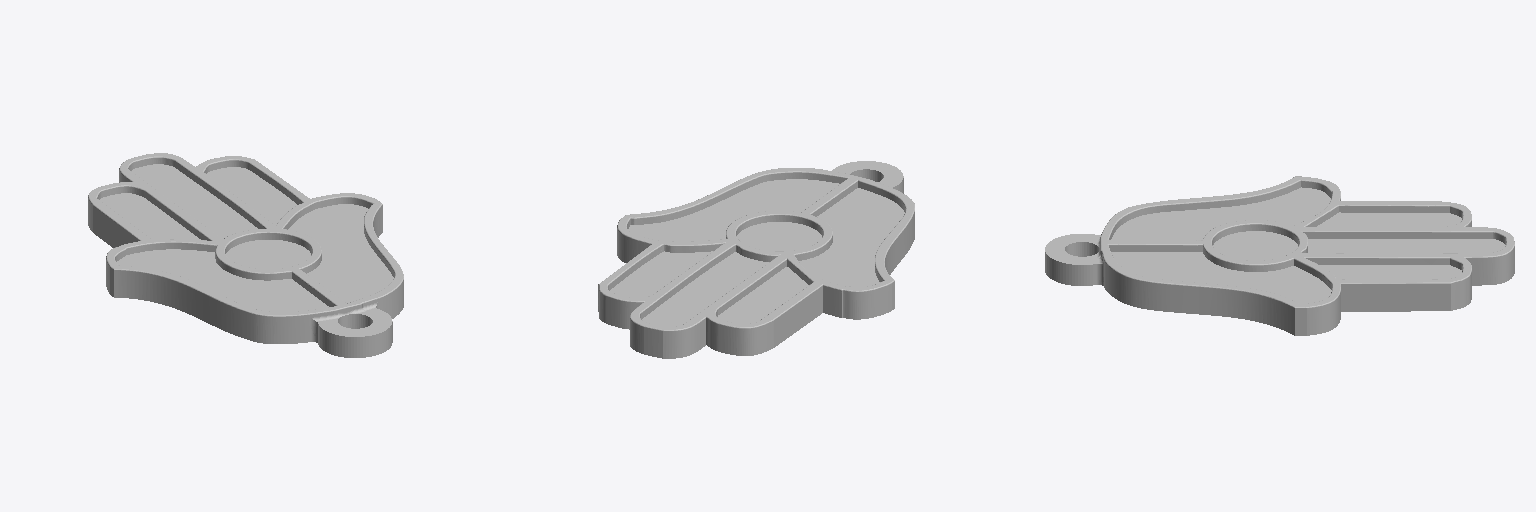
The model's file is hand.obj.
3 renders of one model, left to right at view 1: azimuth 30°, elevation 25°; view 2: azimuth 150°, elevation 25°; view 3: azimuth 270°, elevation 25°, orthographic.
Parts seen in each view (by area): view 1: Hamsa1; view 2: Hamsa1; view 3: Hamsa1.
Boxes of the visible parts, <box> form: Hamsa1: <box>88,153,403,357</box>; Hamsa1: <box>598,161,914,358</box>; Hamsa1: <box>1045,176,1514,335</box>.
Size of the model in its own units: 2.67 by 0.27 by 4.04.